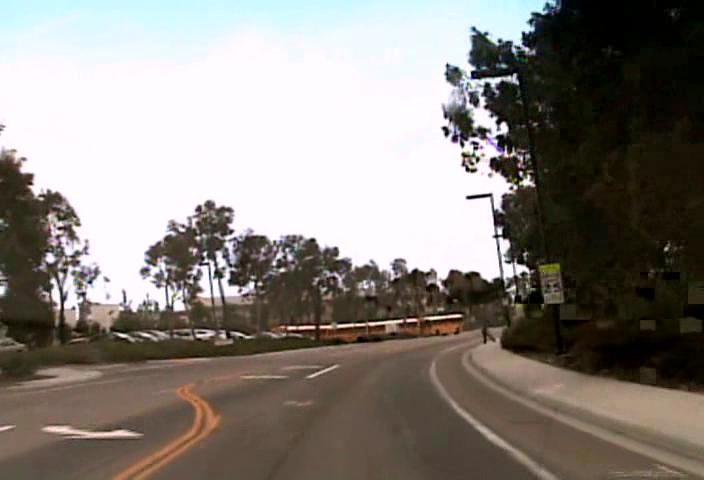schoolSpeedLimit25: (538, 262, 564, 304)
